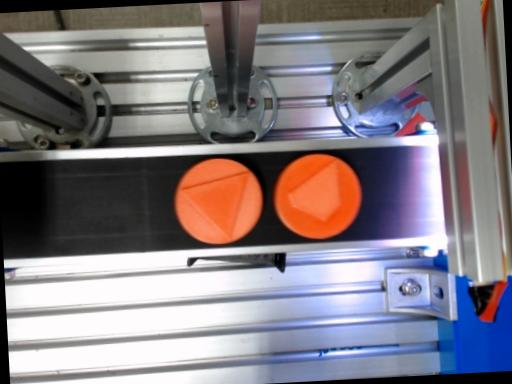Orange_Waper: (174, 159, 262, 245), (274, 154, 361, 239)
